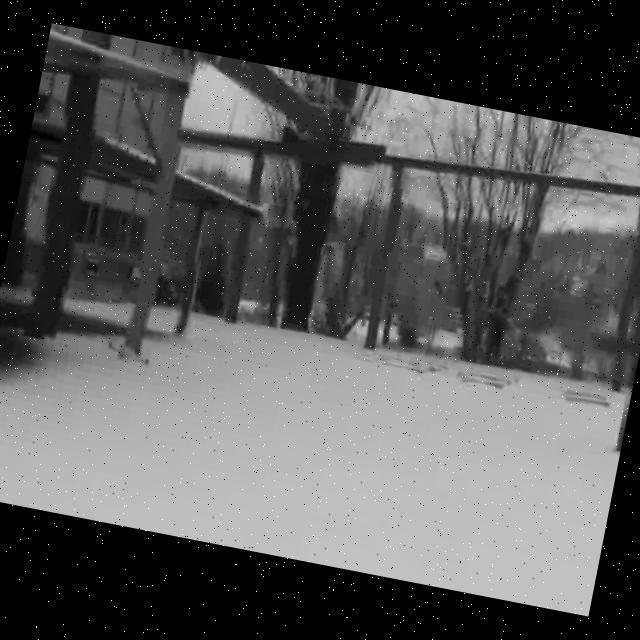Drons: (89, 332, 162, 378)
